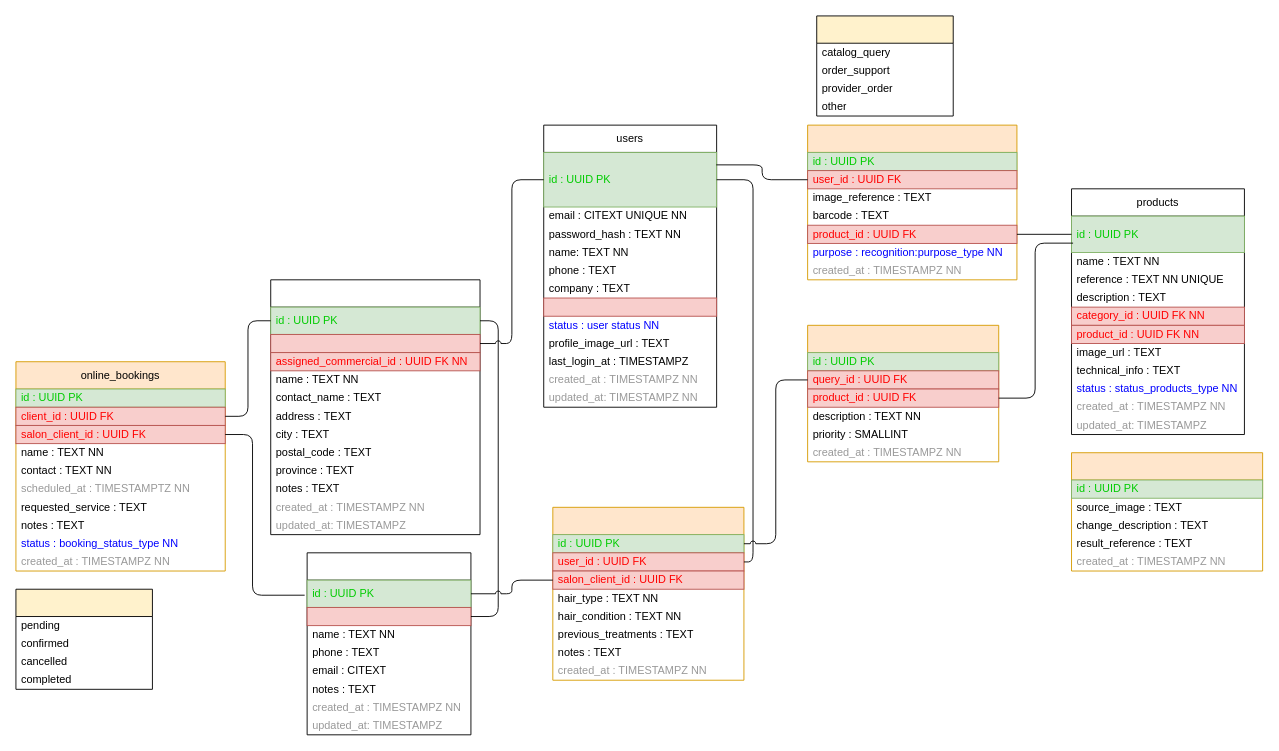
This 1279x751 diagram has some shape labels left out. Each missing label, with the box of its shape:
booking_status_type: (15, 588, 152, 689)
client_id : UUID FK NN: (306, 607, 471, 626)
clients: (270, 279, 480, 535)
linked_user_id : UUID FK NN UNIQUE: (270, 334, 480, 353)
product_recognition_logs: (807, 124, 1017, 280)
recognition_purpose_type: (816, 15, 953, 116)
role_id : SMALLINT NN FK: (543, 297, 717, 316)
salon_clients: (306, 552, 471, 735)
style_simulations: (1071, 452, 1263, 571)
treatment_recommendation_queries: (552, 506, 744, 680)
treatment_recommendations: (807, 324, 999, 462)
